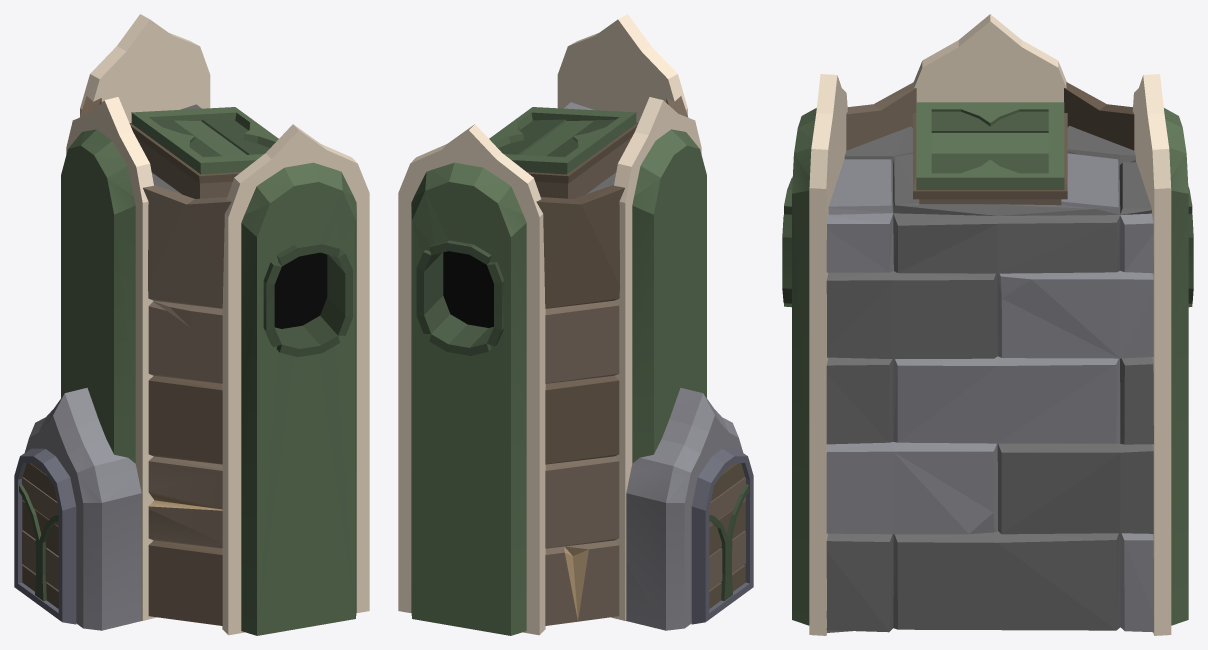
Rendered from _TOWER_1.fbx.
3 renders of one model, left to right at view 1: azimuth 30°, elevation 25°; view 2: azimuth 150°, elevation 25°; view 3: azimuth 270°, elevation 25°, orthographic. The views are drawn at different scales.
Parts seen in each view (by area): view 1: TOWER_1; view 2: TOWER_1; view 3: TOWER_1.
Part boxes in pixels (x1,y1,x2,y2): TOWER_1: (14, 14, 369, 635); TOWER_1: (398, 14, 753, 635); TOWER_1: (782, 14, 1193, 635).
Size of the model in its own units: 360 by 684 by 483.
